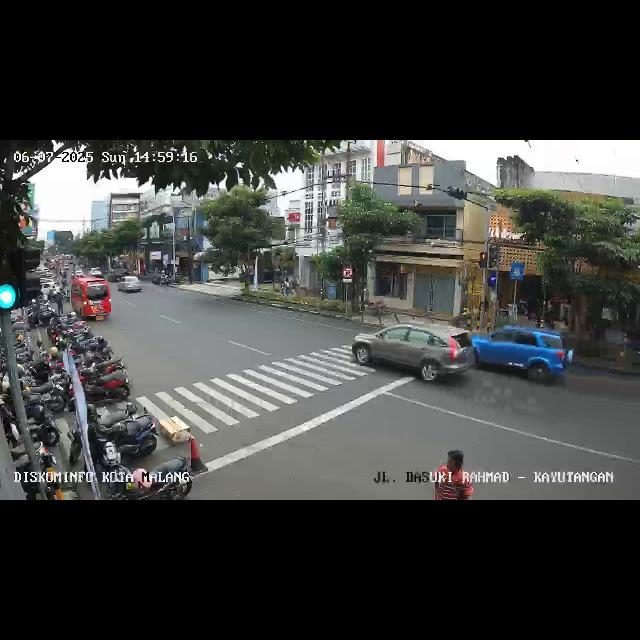car: (352, 320, 472, 386), (472, 323, 574, 389), (70, 278, 112, 322), (117, 276, 143, 296)
person: (431, 446, 474, 499)
